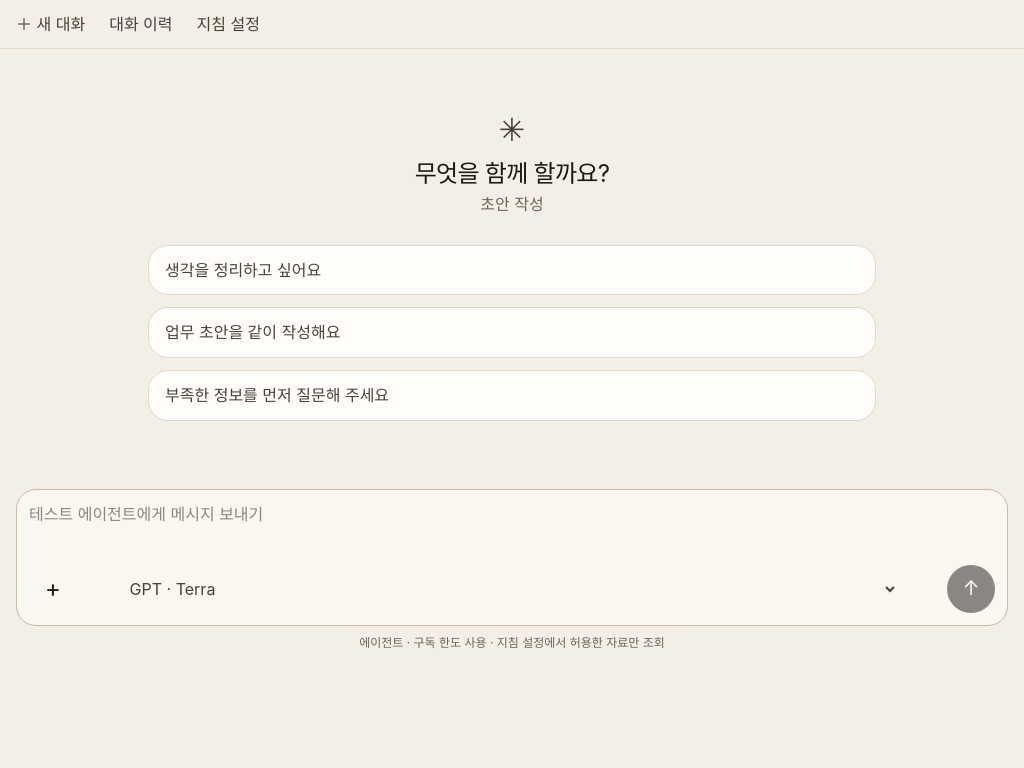
Scenario: agent conversation interactions › edits the same server-stored instructions from chat settings
The image size is (1024, 768).
Check: the heading "무엇을 함께 할까요?" is shown, box [415,159,609,188]
Click the button "지침 설정".
click(228, 24)  # box [189,0,268,48]
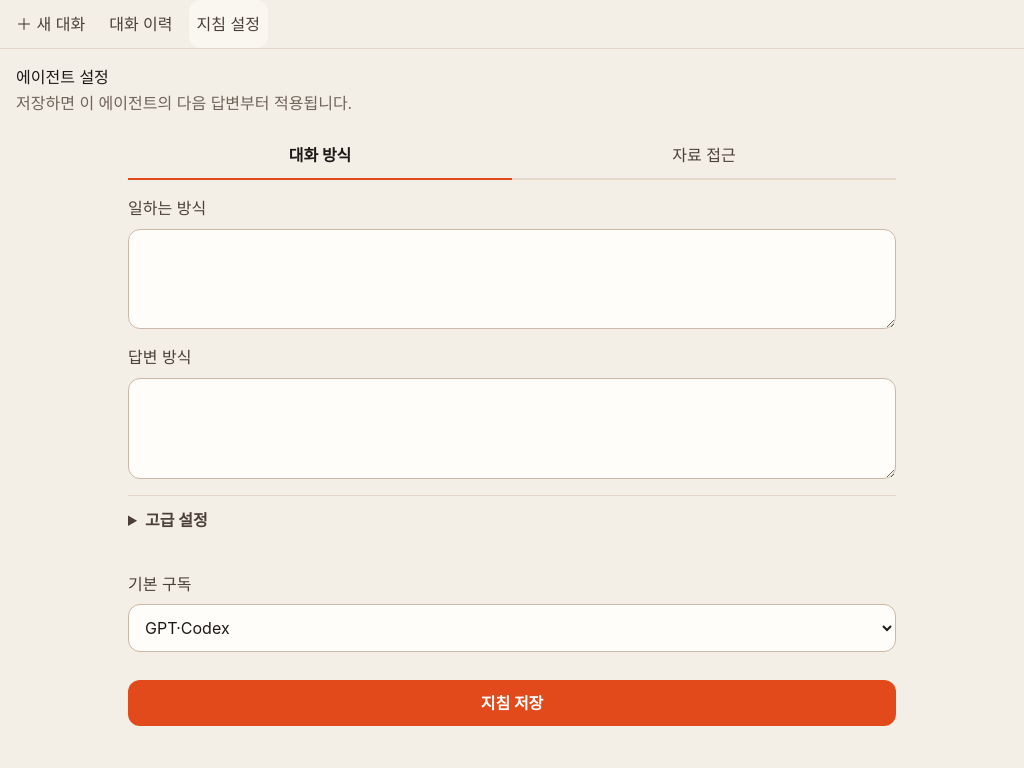
Click the heading "고급 설정".
click(176, 520)  # box [145,510,208,530]
(page scrolled)
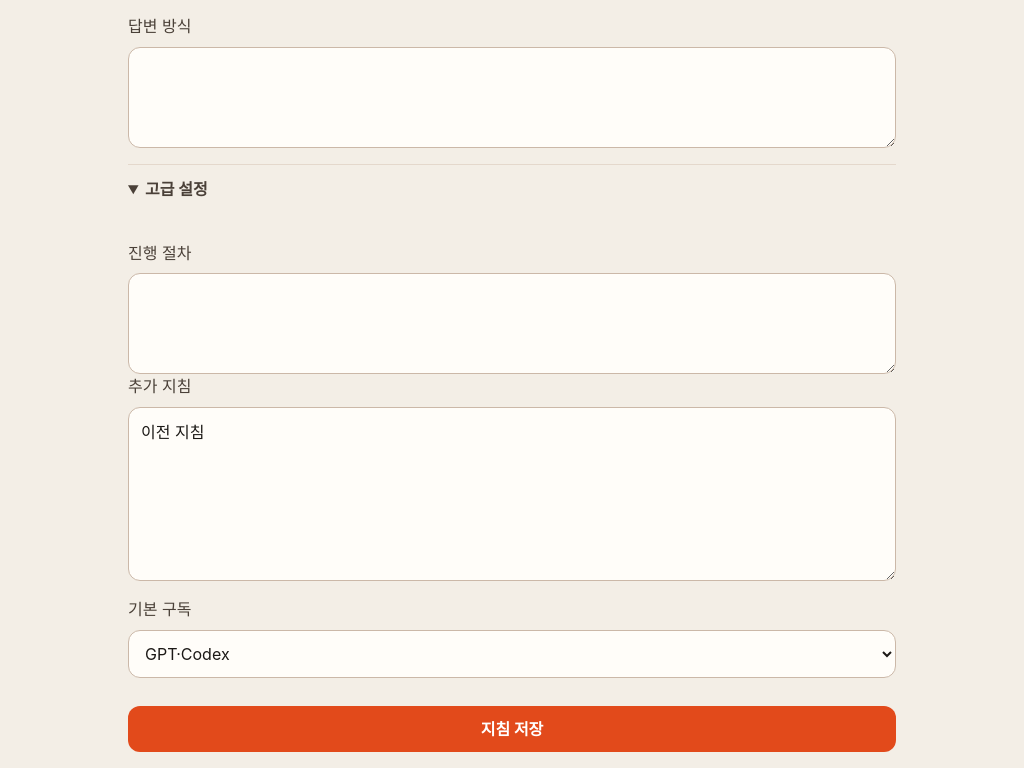
Replace the text in the text box labelled "추가 지침" with "새 지침" at (512, 494), box [128,406,896,581]
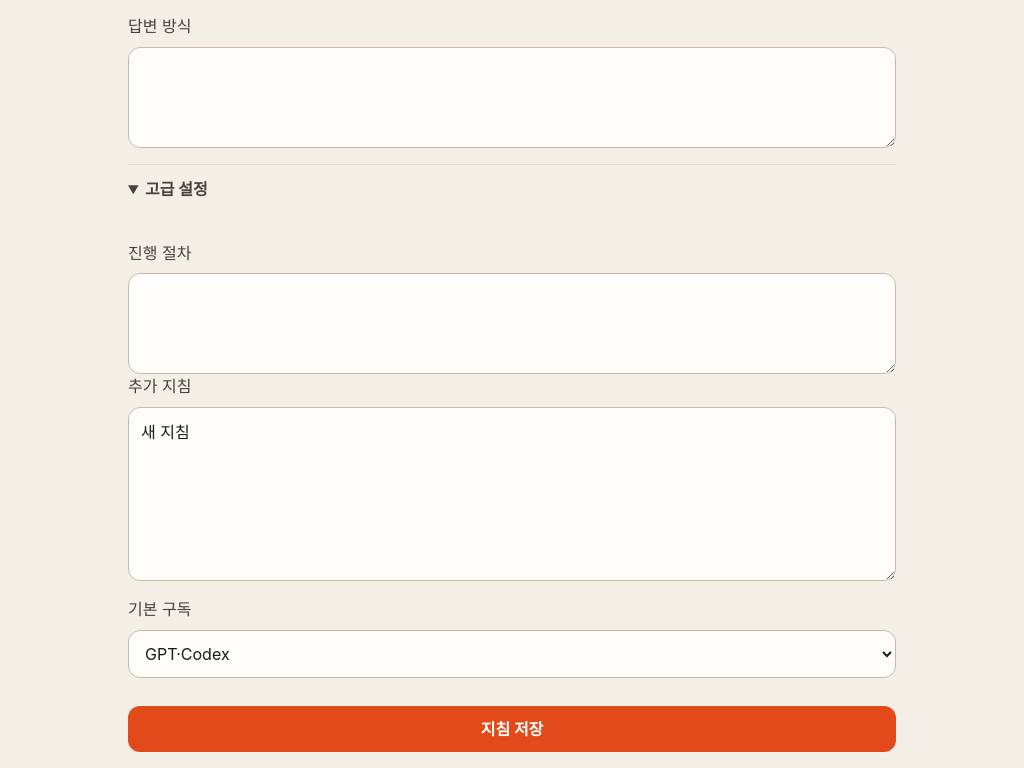
Click the button "지침 저장".
click(512, 729)  # box [128,706,896,752]
(page scrolled)
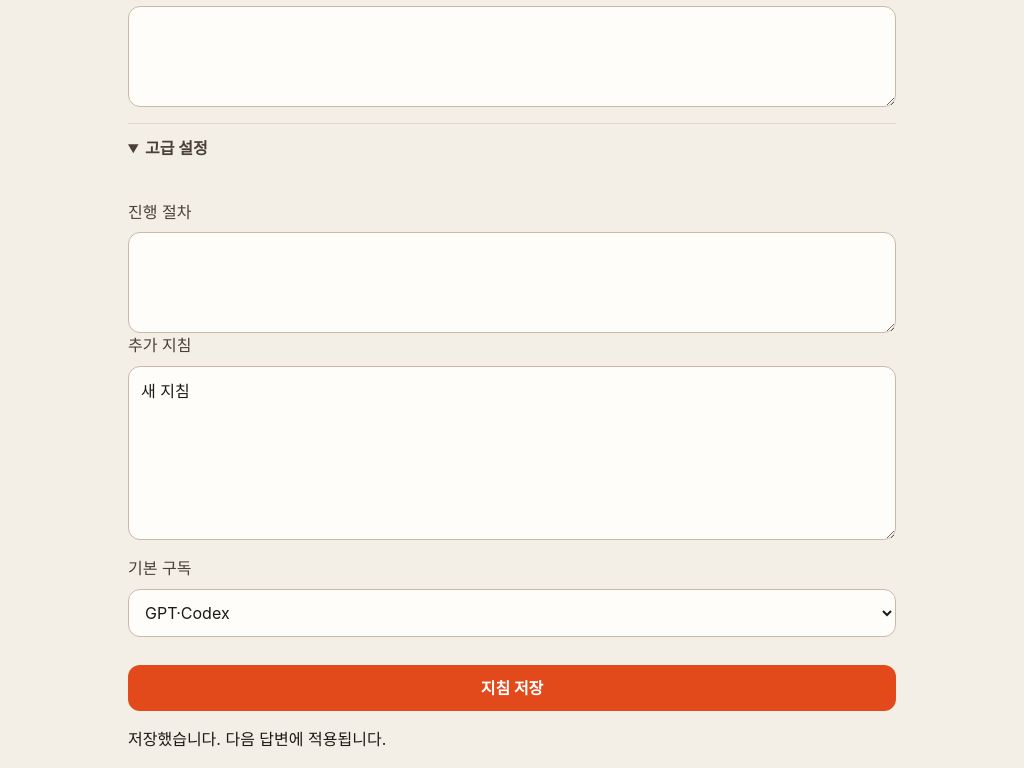
Check: the text "저장했습니다. 다음 답변에 적용됩니다." is shown, box [128,729,386,749]
